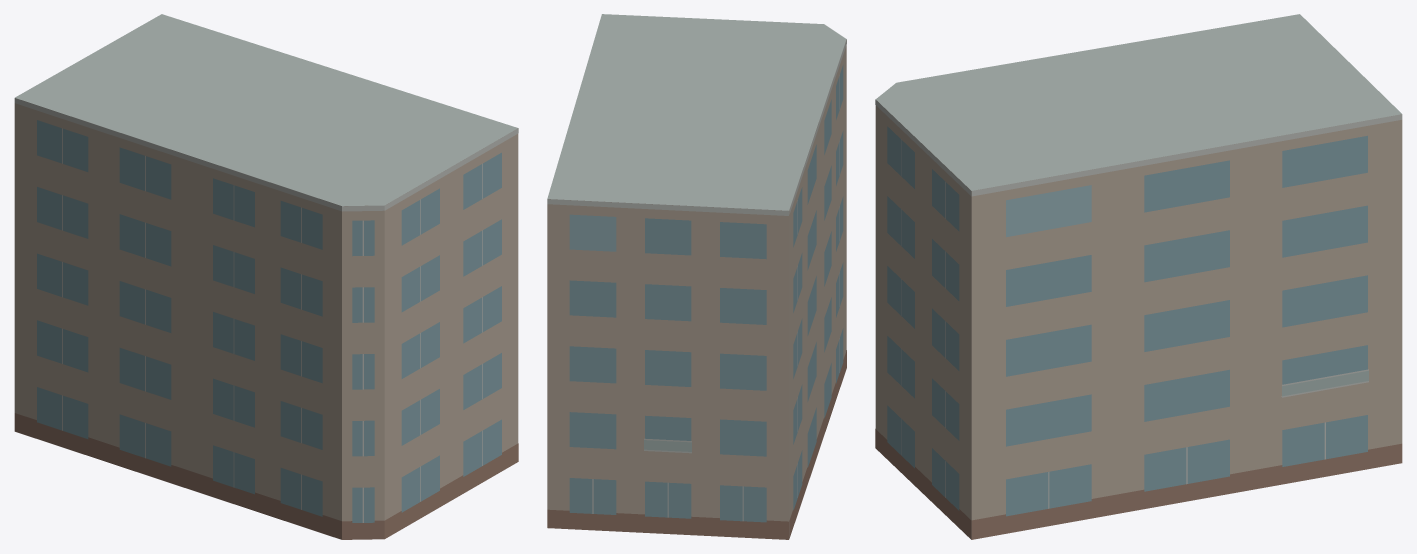
The model's file is survey-upis-32689672.glb.
3 views of the same model, side by side, from view 1: azimuth 30°, elevation 25°; view 2: azimuth 150°, elevation 25°; view 3: azimuth 270°, elevation 25° (orthographic). The views are drawn at different scales.
Visible parts, largest first — view 1: survey-upis-32689672.tmp; view 2: survey-upis-32689672.tmp; view 3: survey-upis-32689672.tmp.
Part boxes in pixels (left/top/right/bottom): survey-upis-32689672.tmp: left=14, top=14, right=518, bottom=539; survey-upis-32689672.tmp: left=547, top=14, right=846, bottom=539; survey-upis-32689672.tmp: left=875, top=14, right=1402, bottom=539.
Size of the model in its own units: 16.65 by 15.3 by 20.94.
